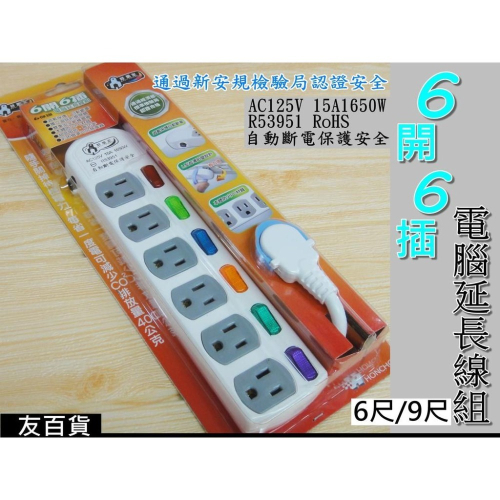socket: (61, 125, 348, 431)
